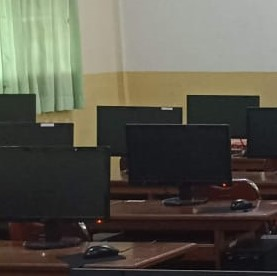monitor: (0, 145, 111, 250), (125, 124, 233, 188), (96, 105, 183, 156), (185, 94, 259, 139), (0, 122, 74, 147), (244, 107, 277, 159), (0, 94, 37, 124)
